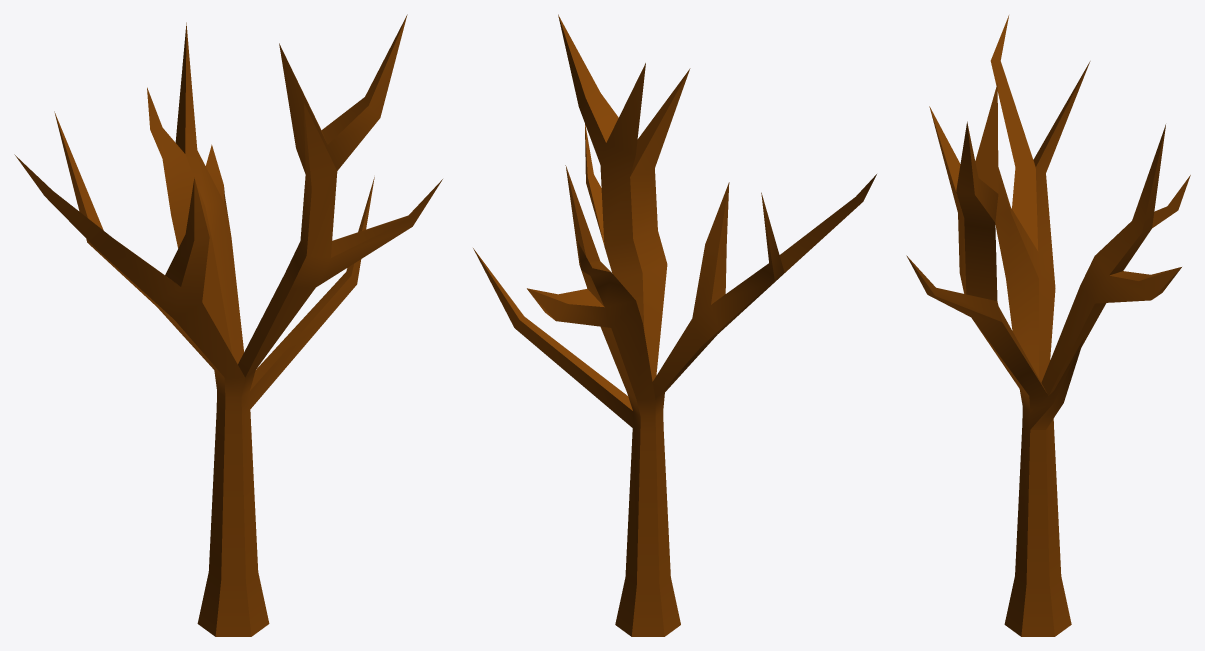
The model's file is TreeWinter3.fbx.
3 renders of one model, left to right at view 1: azimuth 30°, elevation 25°; view 2: azimuth 150°, elevation 25°; view 3: azimuth 270°, elevation 25°, orthographic. The views are drawn at different scales.
Visible parts, largest first — view 1: TreeWinter3; view 2: TreeWinter3; view 3: TreeWinter3.
Part boxes in pixels (bbox=[...]): TreeWinter3: bbox=[14, 14, 442, 636]; TreeWinter3: bbox=[473, 14, 876, 636]; TreeWinter3: bbox=[906, 15, 1190, 636].
Size of the model in its own units: 1290 by 1857 by 848.
